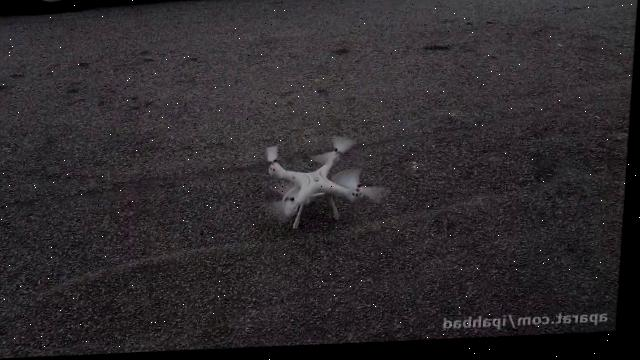drone: (263, 136, 394, 232)
